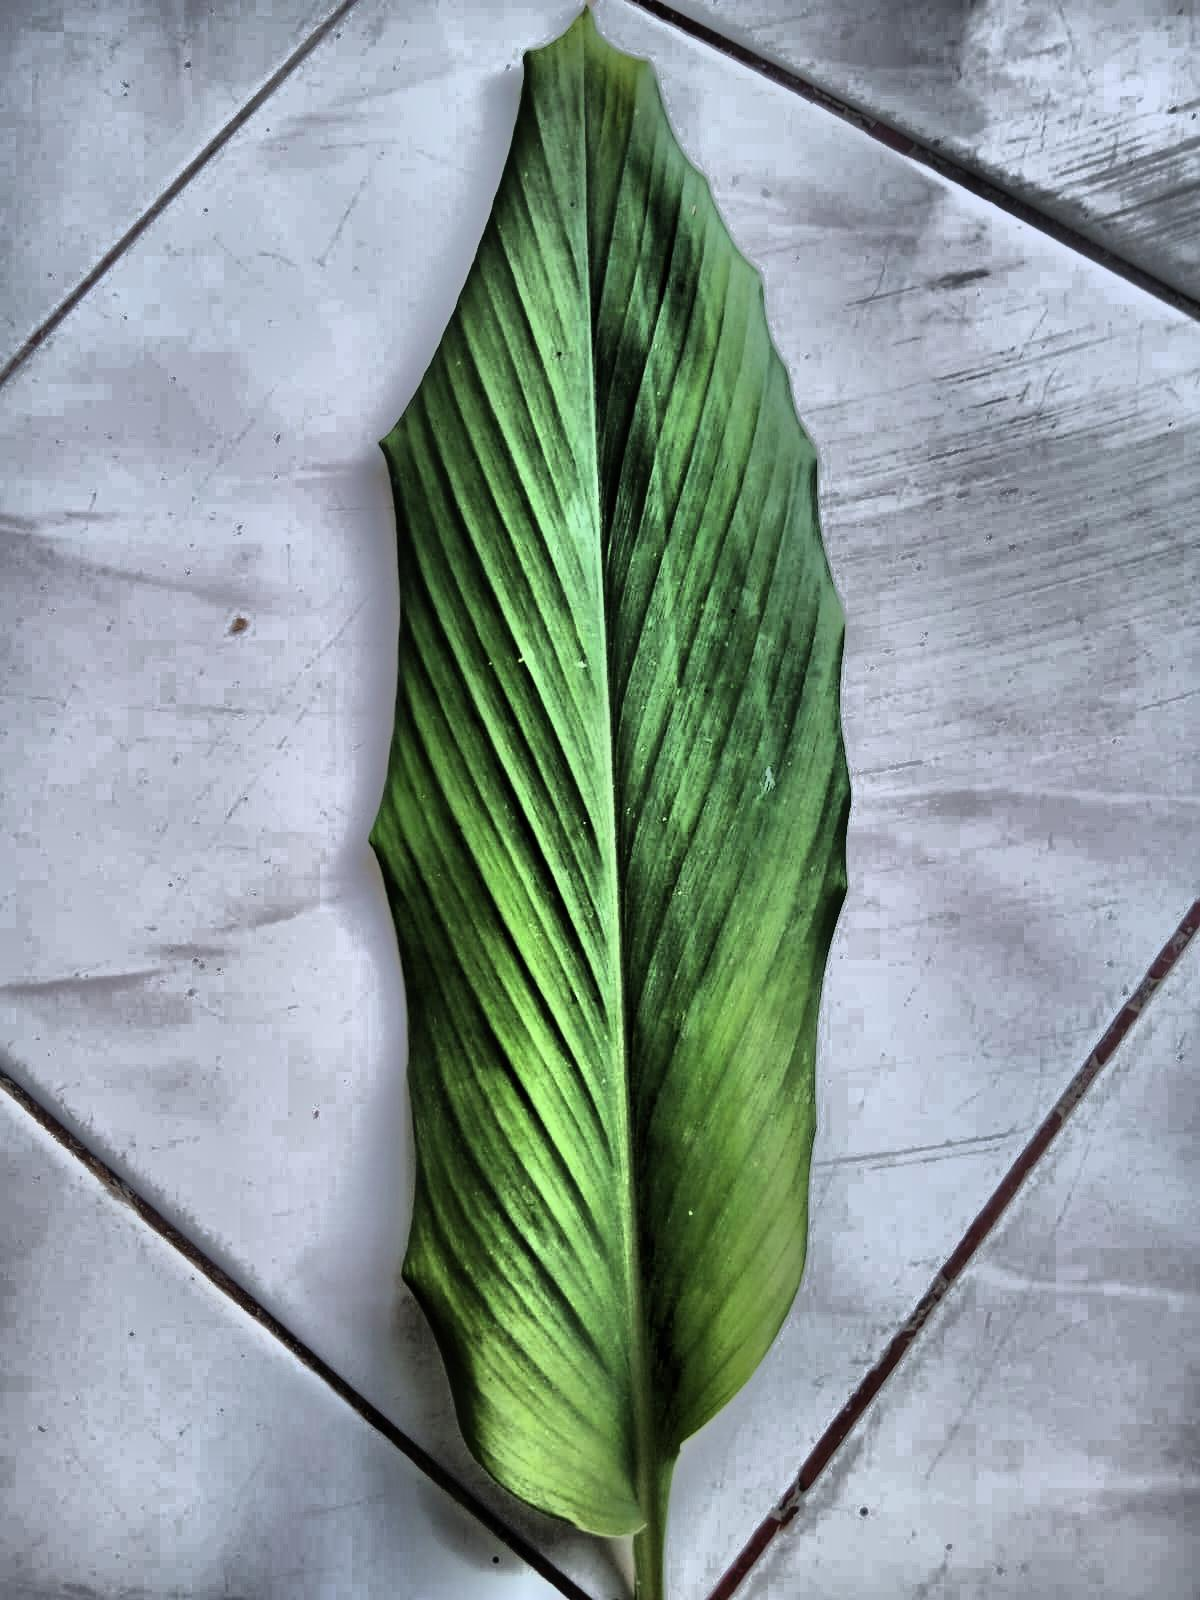daun kunyit: (371, 11, 850, 1599)
